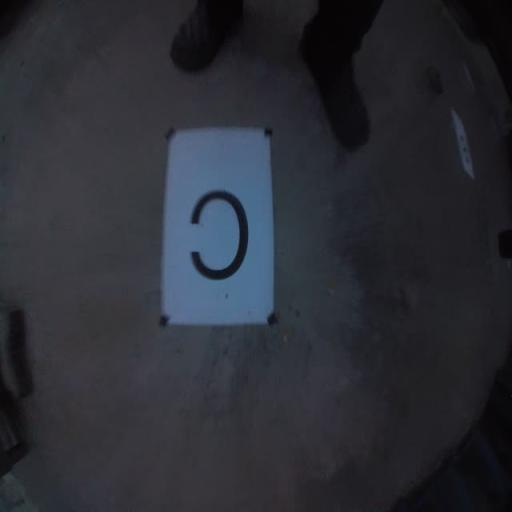C: (190, 188, 250, 282)
